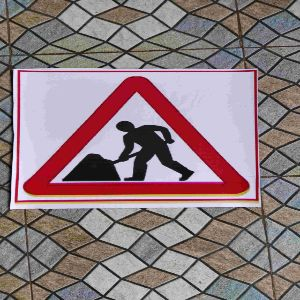men at work: (60, 118, 195, 187)
